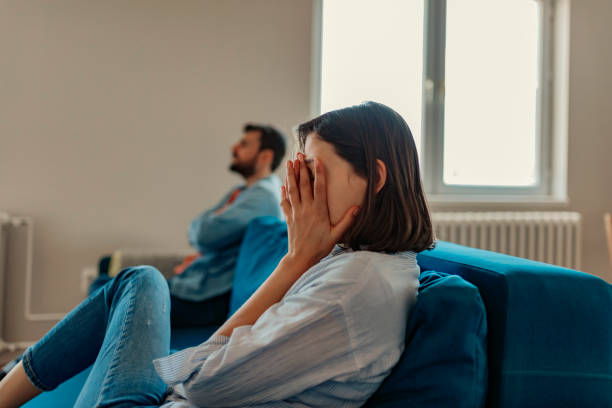without mask: (293, 129, 389, 225), (228, 116, 282, 178)
